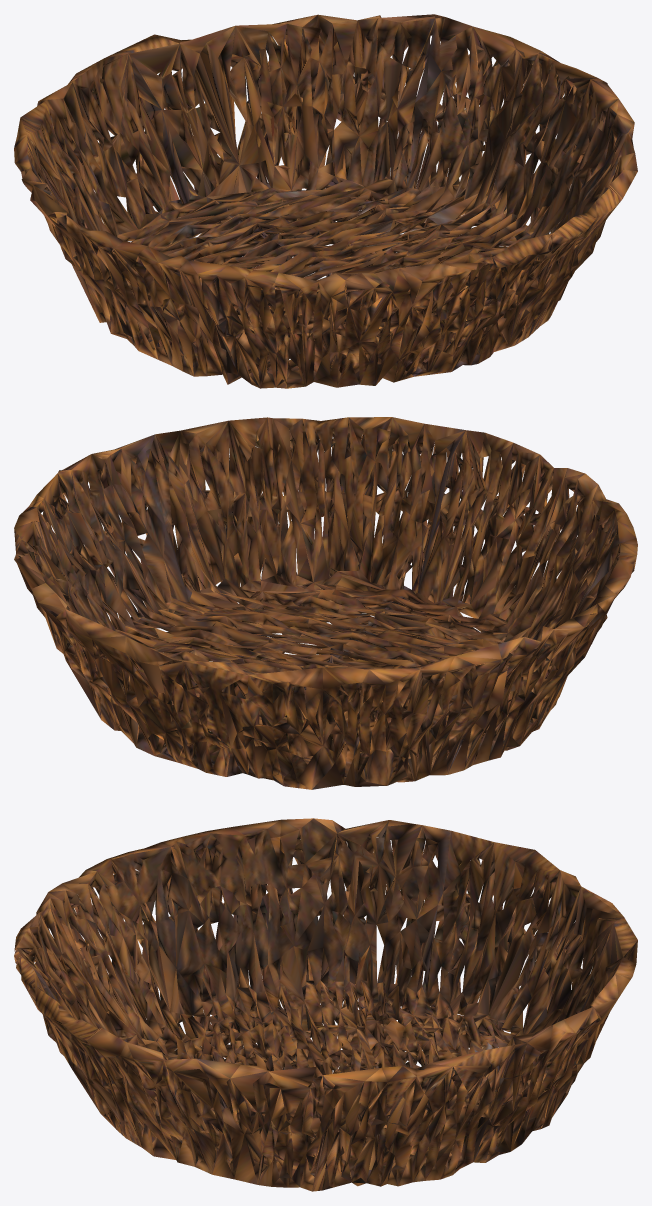
Rendered from Fruit Plate.fbx.
3 renders of one model, top to bottom at view 1: azimuth 30°, elevation 25°; view 2: azimuth 150°, elevation 25°; view 3: azimuth 270°, elevation 25°, orthographic.
Parts seen in each view (by area): view 1: Fruit Plate; view 2: Fruit Plate; view 3: Fruit Plate.
Part boxes in pixels (bbox=[...]): Fruit Plate: bbox=[14, 14, 637, 388]; Fruit Plate: bbox=[14, 417, 637, 789]; Fruit Plate: bbox=[14, 818, 637, 1191].
Bounding box in the file's own units: 35.42 × 10 × 35.3.
1 material, 1 textured.
